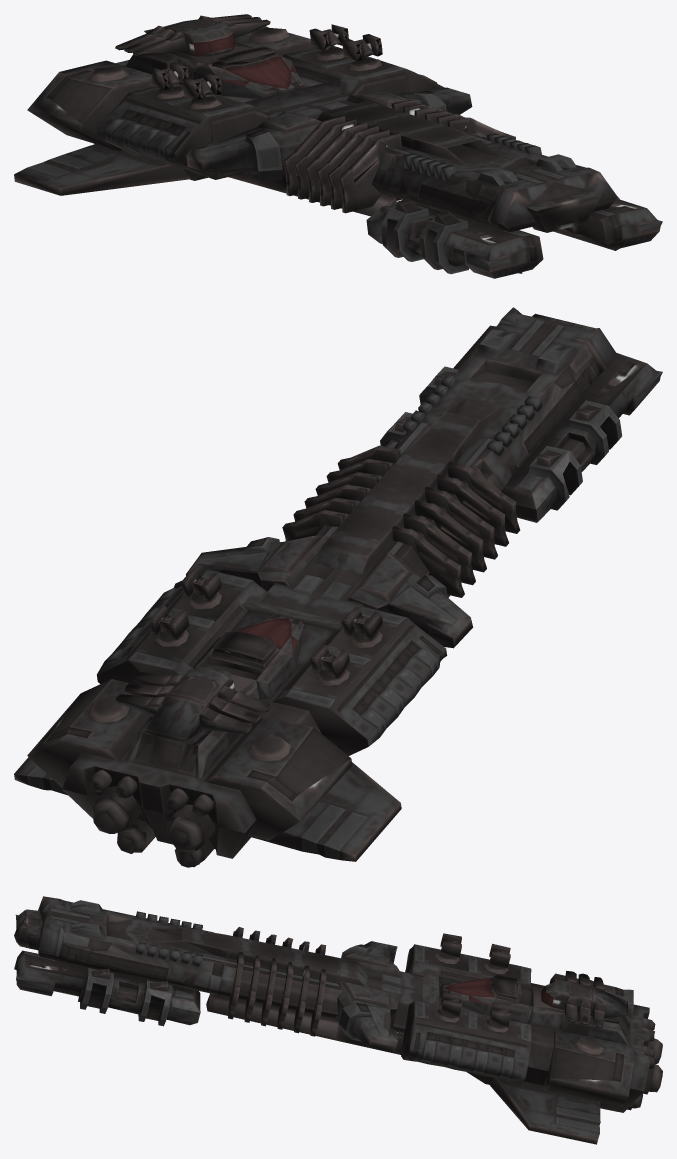
File: destroyer.fbx
The picture shows the model from 3 angles, top to bottom: view 1: azimuth 30°, elevation 25°; view 2: azimuth 150°, elevation 25°; view 3: azimuth 270°, elevation 25°; orthographic projection. The views are drawn at different scales.
Visible parts, largest first — view 1: pCube166; view 2: pCube166; view 3: pCube166.
Part boxes in pixels (x1,y1,x2,y2): pCube166: [14, 14, 662, 278]; pCube166: [14, 307, 662, 867]; pCube166: [14, 896, 662, 1144].
Bounding box in the file's own units: 4893 × 10860 × 3463.
1 material, 1 textured.
